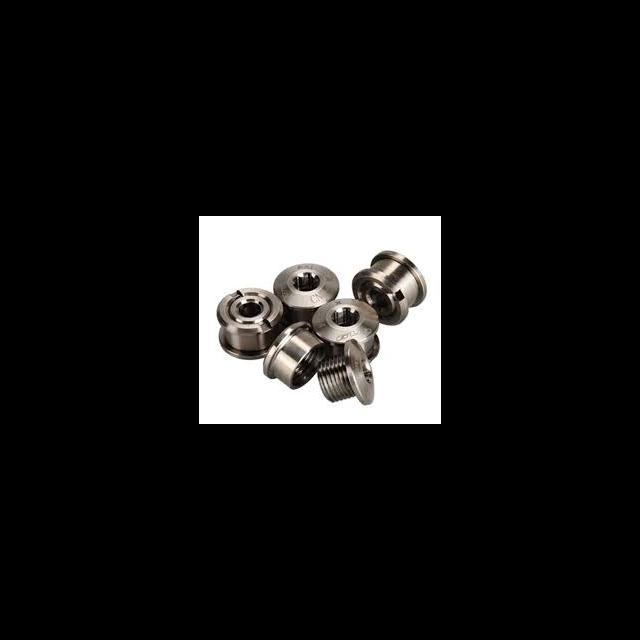metal: (345, 242, 430, 333), (206, 279, 287, 368), (304, 285, 385, 363), (313, 330, 387, 415), (256, 318, 329, 404), (267, 255, 340, 329)
